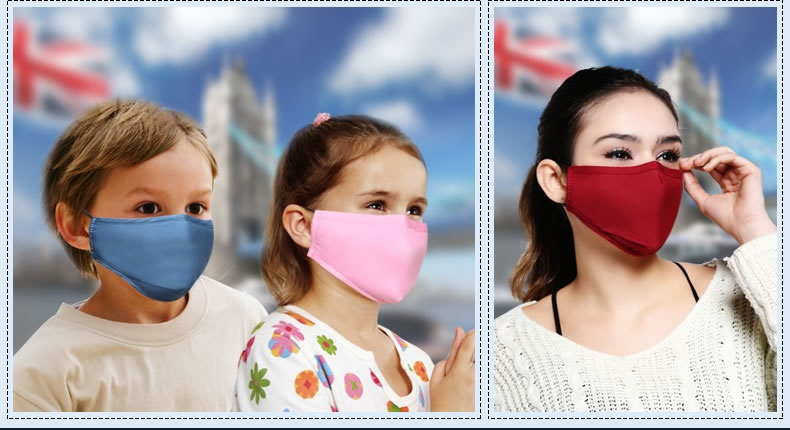face_mask: (96, 149, 215, 303), (569, 98, 687, 250), (323, 149, 433, 305)
